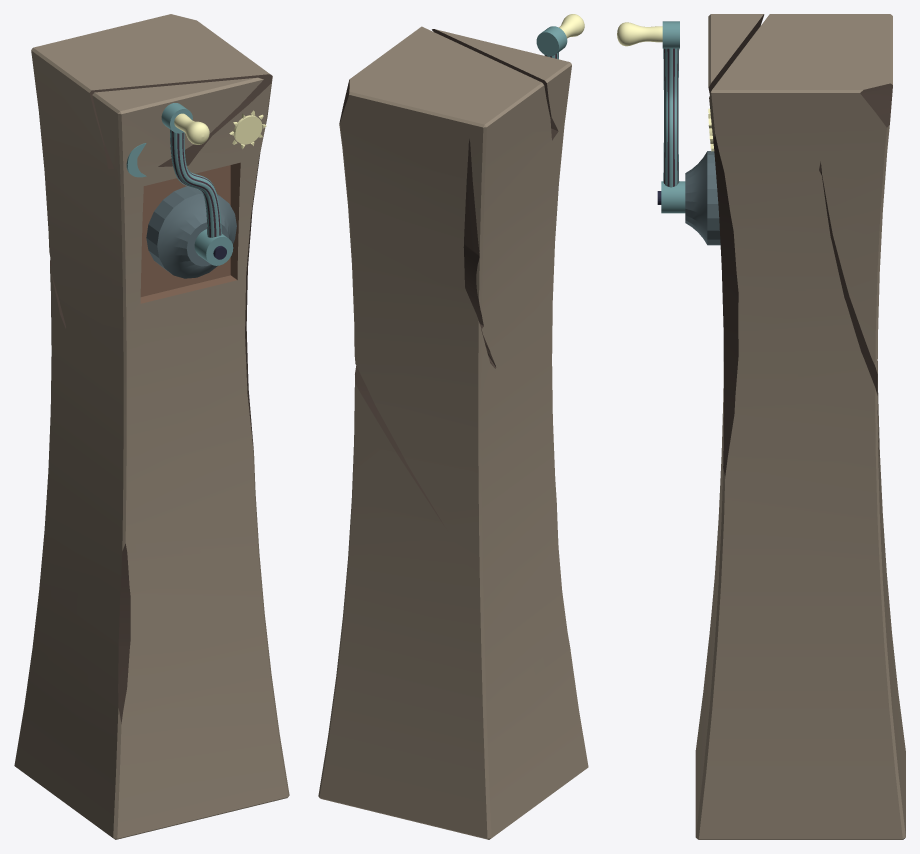
Rendered from crank.fbx.
3 renders of one model, left to right at view 1: azimuth 30°, elevation 25°; view 2: azimuth 150°, elevation 25°; view 3: azimuth 270°, elevation 25°, orthographic. The views are drawn at different scales.
Visible parts, largest first — view 1: crank_base, crank_interactable, sun; view 2: crank_base, crank_interactable; view 3: crank_base, crank_interactable.
Boxes of the visible parts, x1,y1,x2,y2 form: crank_base: [14, 14, 289, 839]; crank_interactable: [161, 103, 233, 265]; sun: [229, 110, 266, 148]; crank_base: [318, 26, 588, 839]; crank_interactable: [536, 14, 584, 59]; crank_base: [657, 14, 905, 839]; crank_interactable: [617, 21, 685, 213].
Bounding box in the file's own units: 43.45 × 172 × 59.69.
